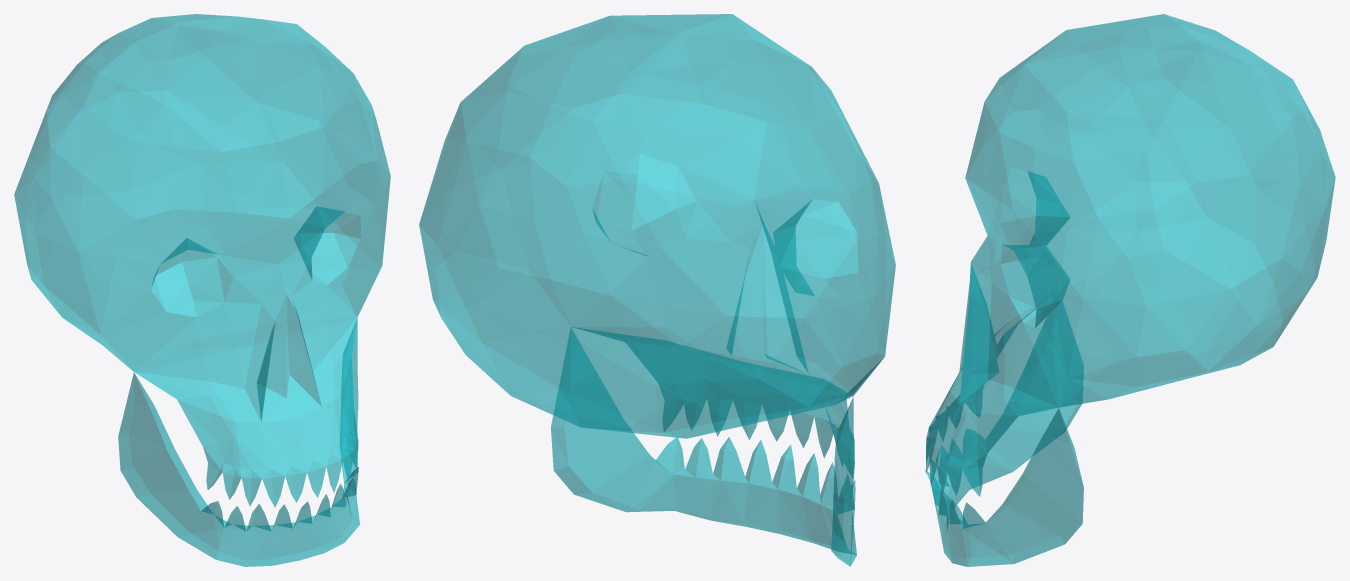
Rendered from halloween_crystal.dae.
3 renders of one model, left to right at view 1: azimuth 30°, elevation 25°; view 2: azimuth 150°, elevation 25°; view 3: azimuth 270°, elevation 25°, orthographic. The views are drawn at different scales.
Visible parts, largest first — view 1: Plane; view 2: Plane; view 3: Plane.
Boxes of the visible parts, x1=… form: Plane: x1=14, y1=14, x2=390, y2=566; Plane: x1=419, y1=14, x2=895, y2=566; Plane: x1=925, y1=14, x2=1335, y2=566.
Size of the model in its own units: 5.78 by 5.61 by 7.41.
